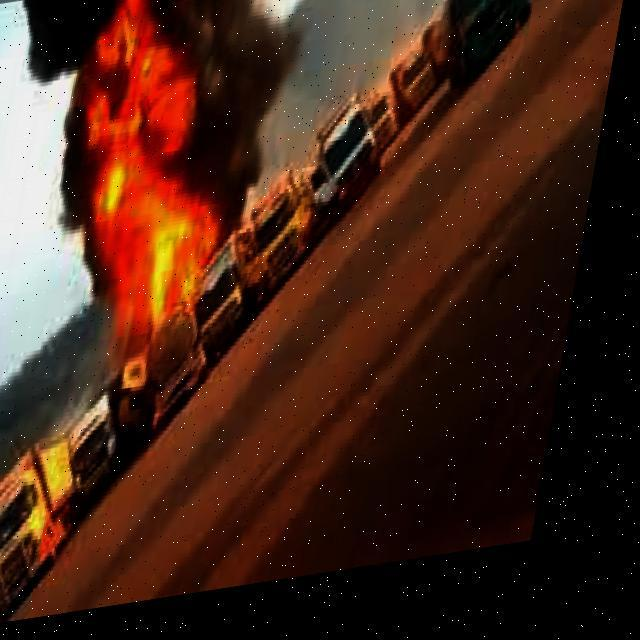Fire: (20, 2, 288, 354)
